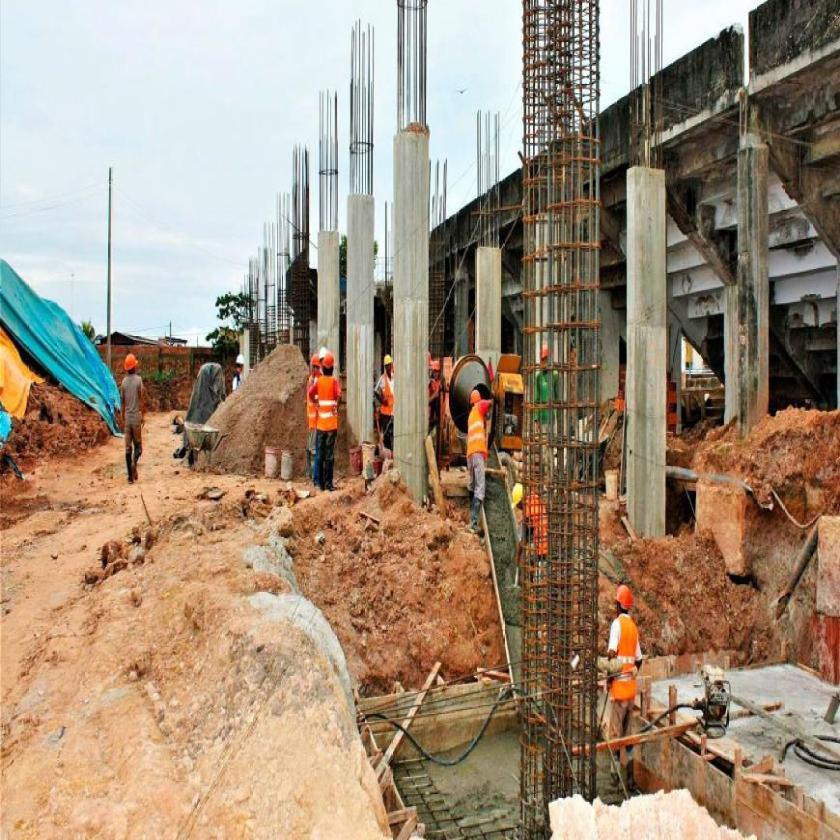Con_casco: (615, 586, 635, 616), (510, 483, 526, 512), (539, 344, 553, 374), (124, 352, 140, 376), (322, 351, 336, 375), (310, 353, 321, 378), (468, 388, 481, 408), (235, 353, 246, 374), (383, 354, 393, 376)
